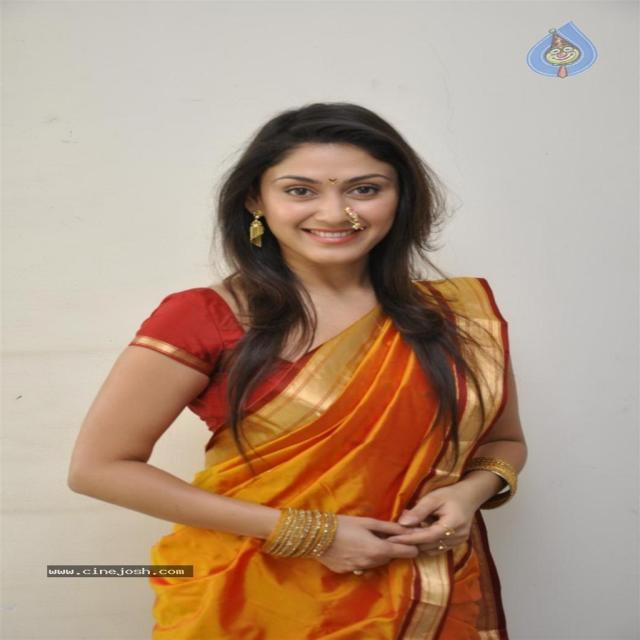Face: (221, 141, 436, 278)
